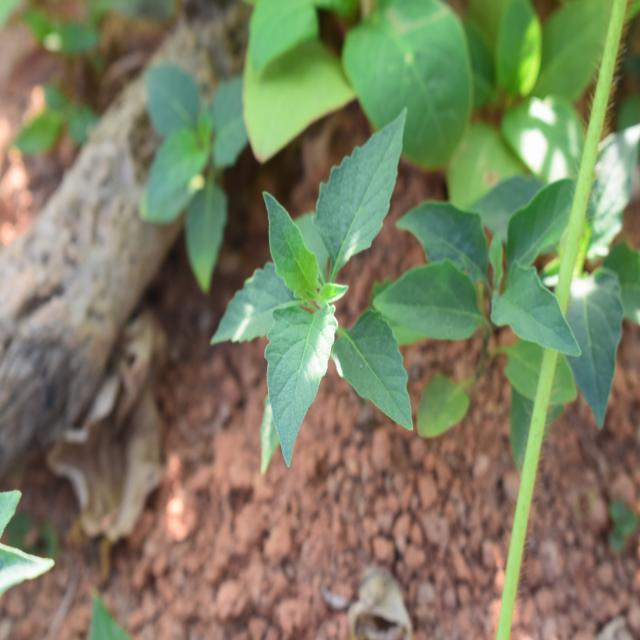Black_nightshade: (240, 125, 411, 434), (403, 161, 572, 376)
